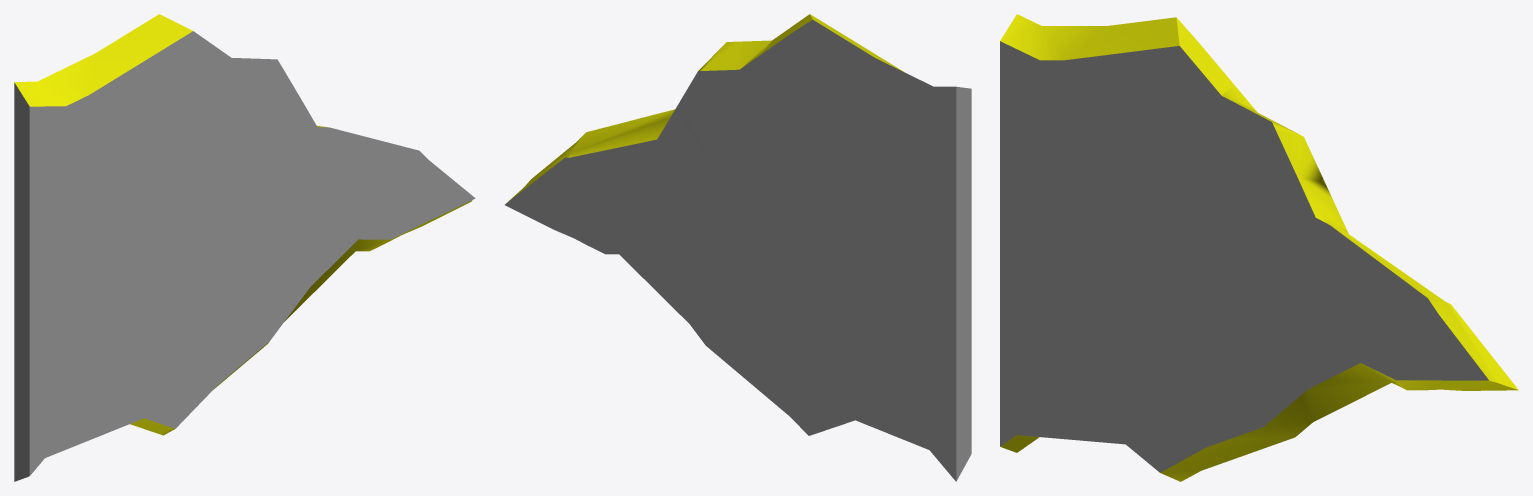
File: Wall_Shard08.fbx
The picture shows the model from 3 angles, left to right: view 1: azimuth 30°, elevation 25°; view 2: azimuth 150°, elevation 25°; view 3: azimuth 330°, elevation 25°; orthographic projection. The views are drawn at different scales.
Visible parts, largest first — view 1: Wall_Shard8; view 2: Wall_Shard8; view 3: Wall_Shard8.
Part boxes in pixels (box(x1,y1,x2,y2)): Wall_Shard8: box(14, 14, 475, 481); Wall_Shard8: box(505, 14, 971, 481); Wall_Shard8: box(1000, 14, 1518, 481).
Bounding box in the file's own units: 340 × 308 × 20.
